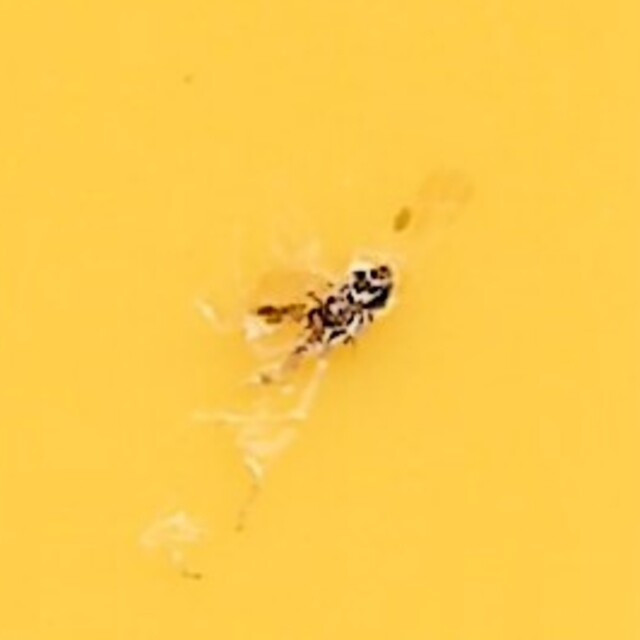Hemiptera: (241, 249, 399, 391)
